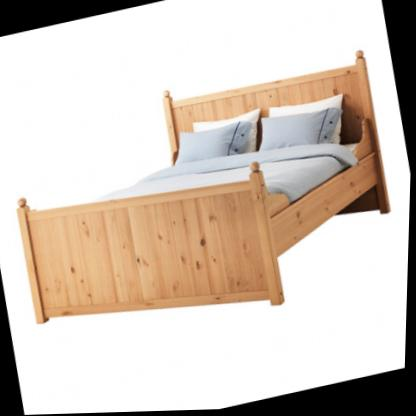Bed: (0, 46, 411, 361)
